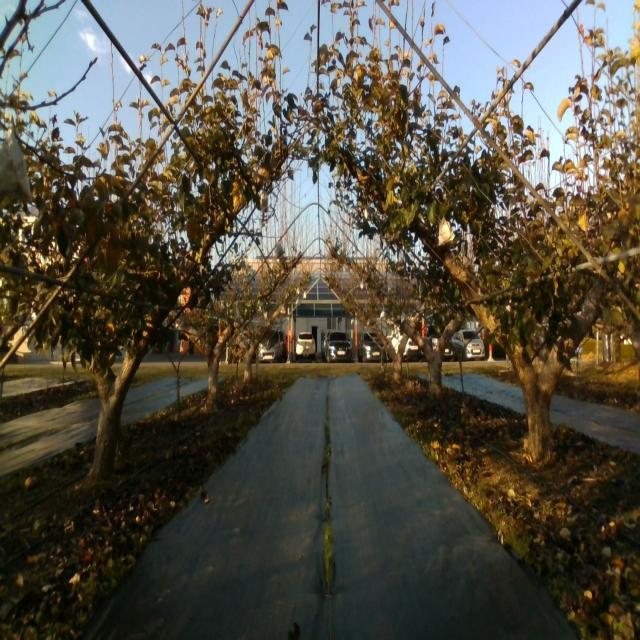pearbags: (0, 127, 32, 210), (438, 215, 455, 246)
